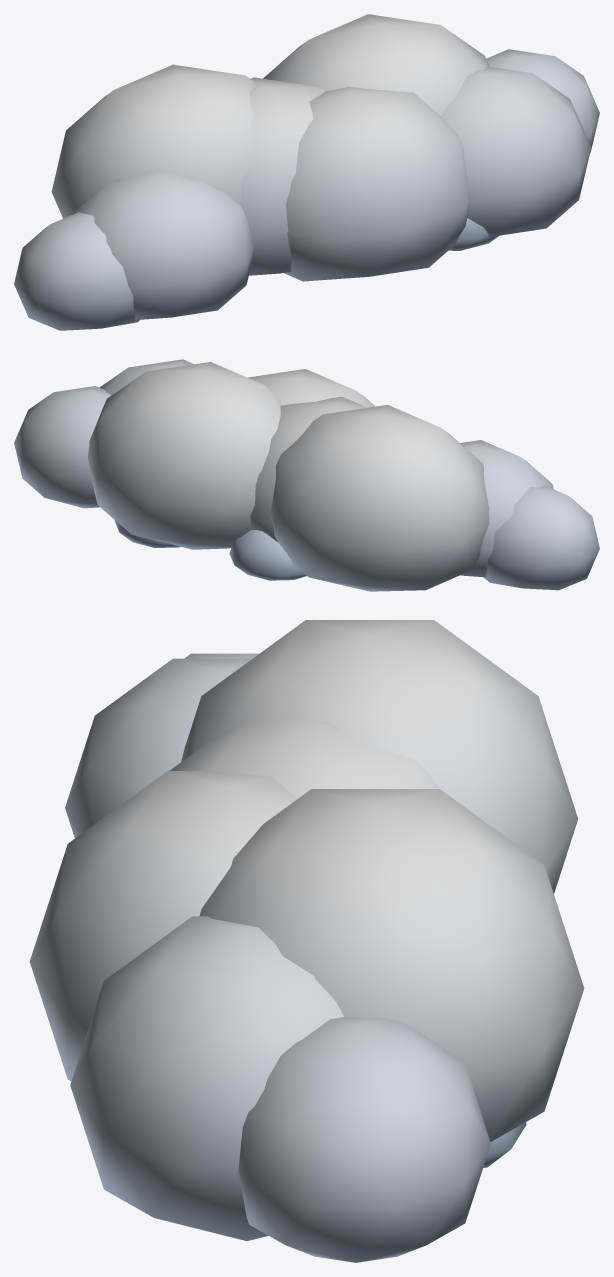
File: cloud_4.glb
3 views of the same model, one above another, from view 1: azimuth 30°, elevation 25°; view 2: azimuth 150°, elevation 25°; view 3: azimuth 270°, elevation 25° (orthographic). The views are drawn at different scales.
Parts seen in each view (by area): view 1: Cloud; view 2: Cloud; view 3: Cloud.
Boxes of the visible parts, x1,y1,x2,y2 form: Cloud: (14, 14, 599, 330); Cloud: (14, 359, 599, 591); Cloud: (29, 620, 584, 1262).
Size of the model in its own units: 14.25 by 4.04 by 6.41.
